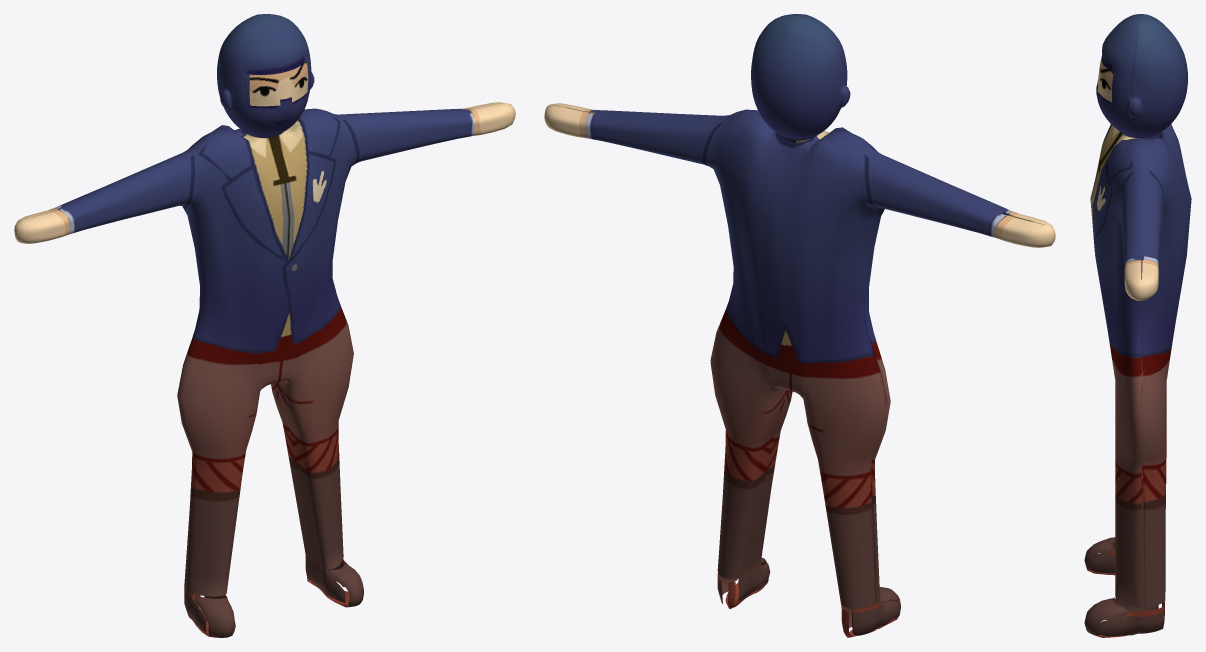
The model's file is elConfundido_model.dae.
3 renders of one model, left to right at view 1: azimuth 30°, elevation 25°; view 2: azimuth 150°, elevation 25°; view 3: azimuth 270°, elevation 25°, orthographic. The views are drawn at different scales.
Parts seen in each view (by area): view 1: Cube.003; view 2: Cube.003; view 3: Cube.003.
Part boxes in pixels (box(x1,y1,x2,y2)): Cube.003: box(14, 14, 515, 637); Cube.003: box(544, 14, 1055, 637); Cube.003: box(1084, 14, 1191, 637).
Size of the model in its own units: 8.49 by 1.59 by 9.55.
1 material, 1 textured.
